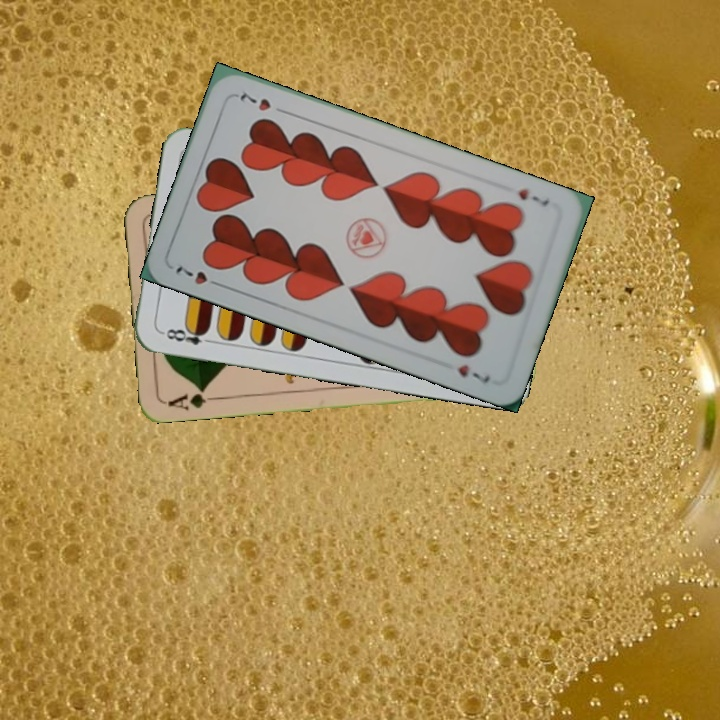E8: (158, 322, 216, 348)
GA: (163, 384, 223, 413)
H7: (171, 262, 227, 291), (514, 184, 552, 210)
